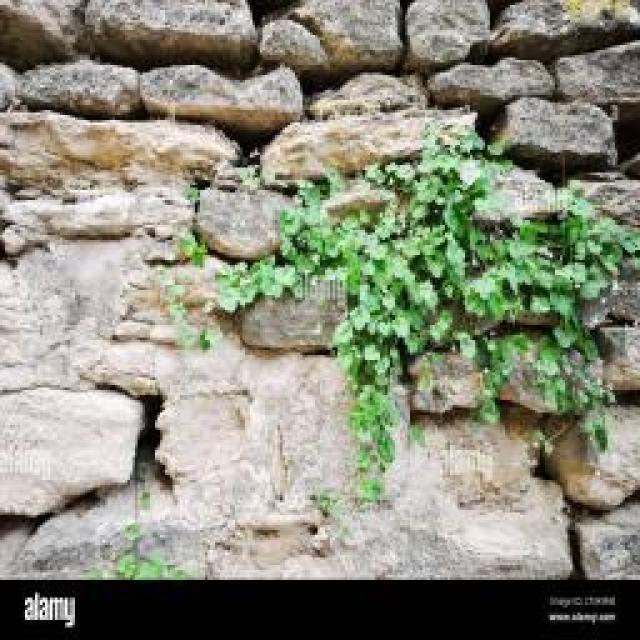Crack: (1, 0, 638, 578)
